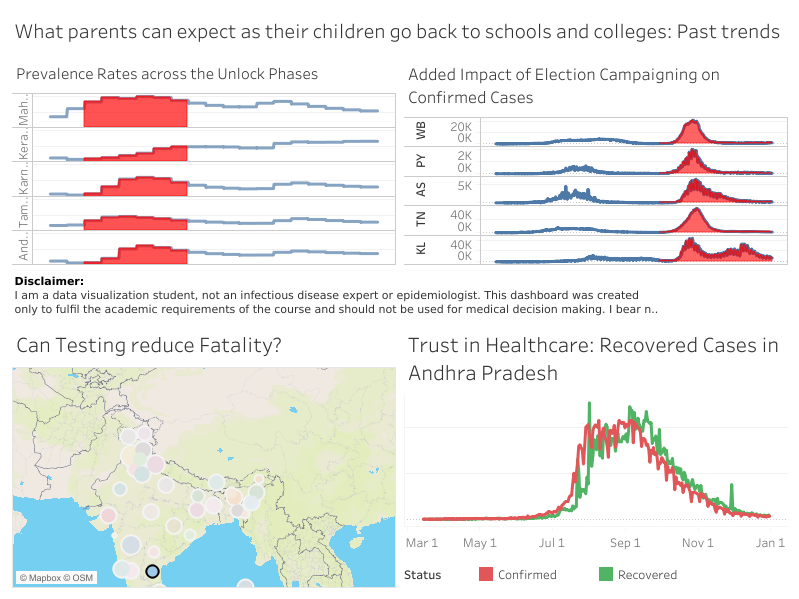

What the dashboard file says about the page in this screenshot:
{"tool":"tableau","page":{"name":"Dashboard 1","canvas":[800,600],"ordinal":0},"visuals":[{"type":"title","box":[8,8,784,44]},{"type":"worksheet","title":"Sheet 4","mark":"Line","rows":["State","Calculation_883268538102870024"],"cols":["Date","date_selection (copy)_883268538095185926"],"box":[8,52,392,217]},{"type":"worksheet","title":"Sheet 5","mark":"Line","rows":["WB","PY","AS","TN","KL"],"cols":["Date_YMD","Calculation_883268538107932683"],"box":[400,52,392,217]},{"type":"text","box":[8,269,784,51]},{"type":"worksheet","title":"Sheet 1","mark":"Automatic","box":[8,320,392,240]},{"type":"worksheet","title":"Sheet 2","mark":"Automatic","rows":["Calculation_768145272532922369"],"cols":["Date_YMD"],"box":[400,320,392,240]},{"type":"legend","title":"Sheet 1","param":"[federated.11r750j1gdrt5s1881ae701bxkgs].[max:Tested:qk]","box":[8,560,392,32]},{"type":"legend","title":"Sheet 2","param":"[federated.0lkbrl50poeach15tv43r0x51ika].[none:Status:nk]","box":[400,560,392,32]}]}

Visuals, with their boxes in screenshot pixels (x1, y1, x2, y2), scaled from the page's 800x600 canvas onto the 799x599 screenshot:
title: {"x1": 8, "y1": 8, "x2": 791, "y2": 52}
"Sheet 4" worksheet (Line marks): {"x1": 8, "y1": 52, "x2": 400, "y2": 269}
"Sheet 5" worksheet (Line marks): {"x1": 400, "y1": 52, "x2": 791, "y2": 269}
text: {"x1": 8, "y1": 269, "x2": 791, "y2": 319}
"Sheet 1" worksheet: {"x1": 8, "y1": 319, "x2": 400, "y2": 559}
"Sheet 2" worksheet: {"x1": 400, "y1": 319, "x2": 791, "y2": 559}
"Sheet 1" legend: {"x1": 8, "y1": 559, "x2": 400, "y2": 591}
"Sheet 2" legend: {"x1": 400, "y1": 559, "x2": 791, "y2": 591}
